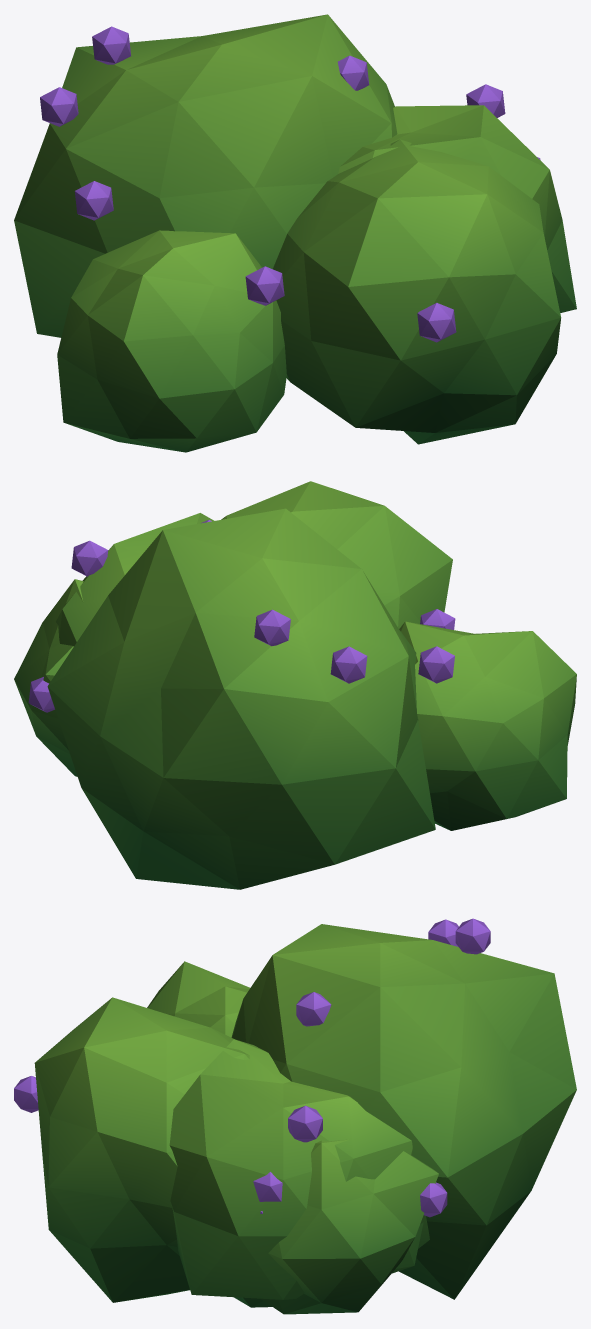
Rendered from f_bush1.glb.
The picture shows the model from 3 angles, top to bottom: view 1: azimuth 30°, elevation 25°; view 2: azimuth 150°, elevation 25°; view 3: azimuth 270°, elevation 25°; orthographic projection. The views are drawn at different scales.
Visible parts, largest first — view 1: bush1; view 2: bush1; view 3: bush1.
Part boxes in pixels (x1=…): bush1: x1=14, y1=14, x2=576, y2=452; bush1: x1=14, y1=481, x2=576, y2=889; bush1: x1=14, y1=918, x2=576, y2=1314.
Size of the model in its own units: 2.02 by 1.27 by 2.03.
